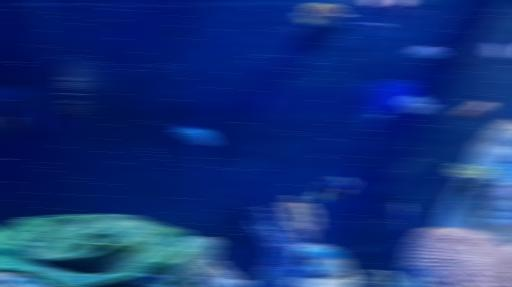Fish: (298, 3, 349, 26), (312, 176, 353, 201), (172, 124, 215, 145), (403, 255, 425, 286), (398, 96, 435, 113), (454, 101, 491, 117), (406, 46, 443, 58), (397, 202, 409, 231)
